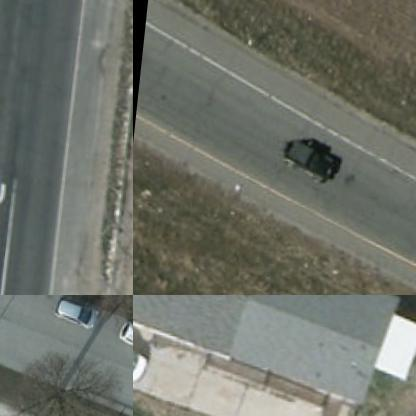car: (276, 131, 342, 187), (52, 296, 101, 330), (118, 319, 132, 362)
van: (133, 324, 152, 385)
